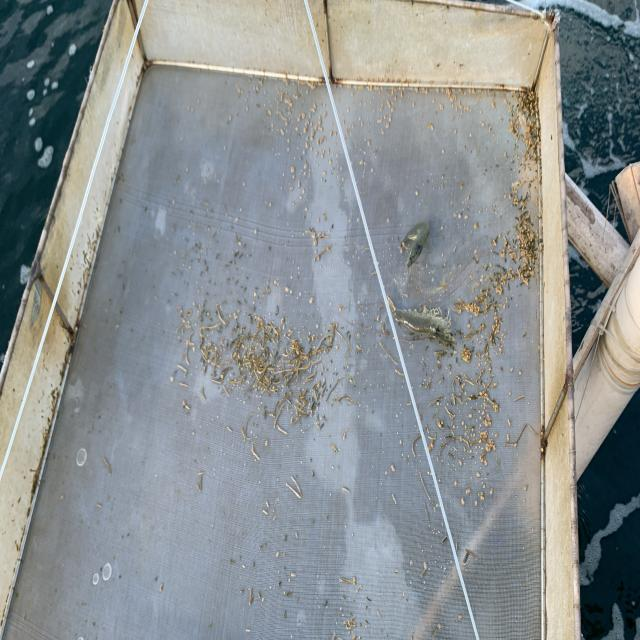Shrimp feeds: (487, 438, 494, 451), (262, 509, 268, 516), (95, 504, 103, 508), (387, 100, 391, 108), (337, 306, 344, 310), (58, 495, 65, 499), (507, 419, 511, 426), (266, 500, 269, 508), (273, 516, 277, 520), (280, 129, 283, 134), (292, 574, 296, 576)
